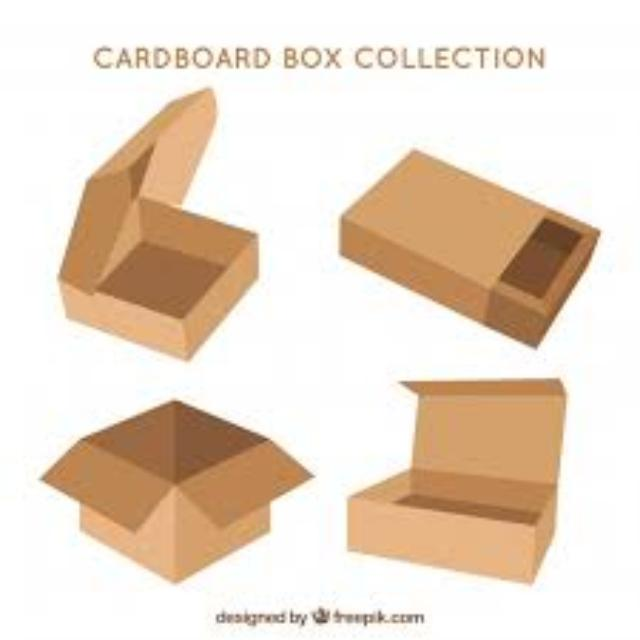cardboard paper: (57, 85, 253, 353), (338, 148, 594, 341), (43, 398, 307, 575), (344, 375, 560, 577)
